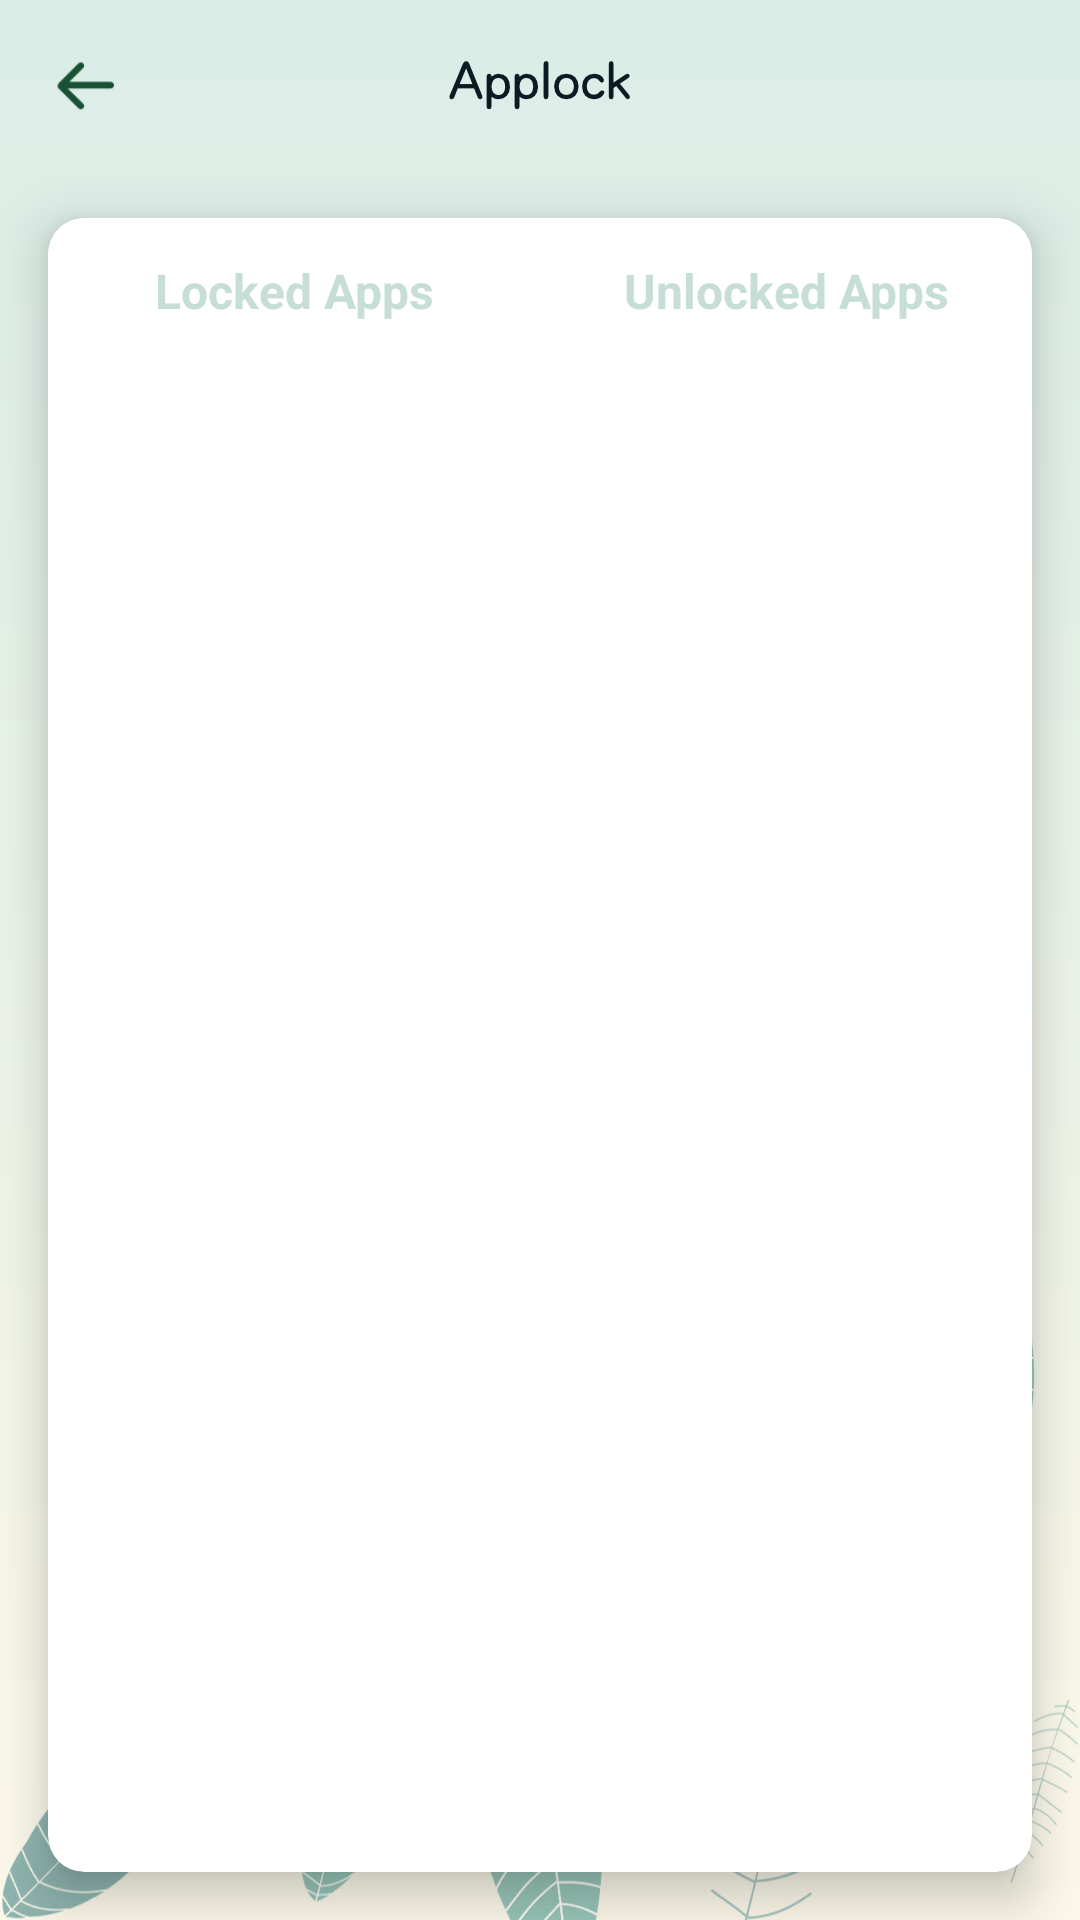

Screen size 1080px×1920px. Icon name, then its box in pixels as (x1, y1, x2, y2):
back: (57, 62, 114, 110)
